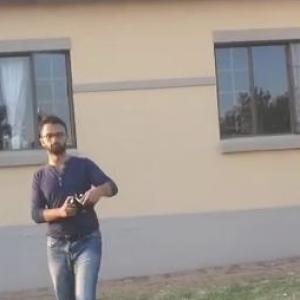follow: (26, 106, 126, 299)
